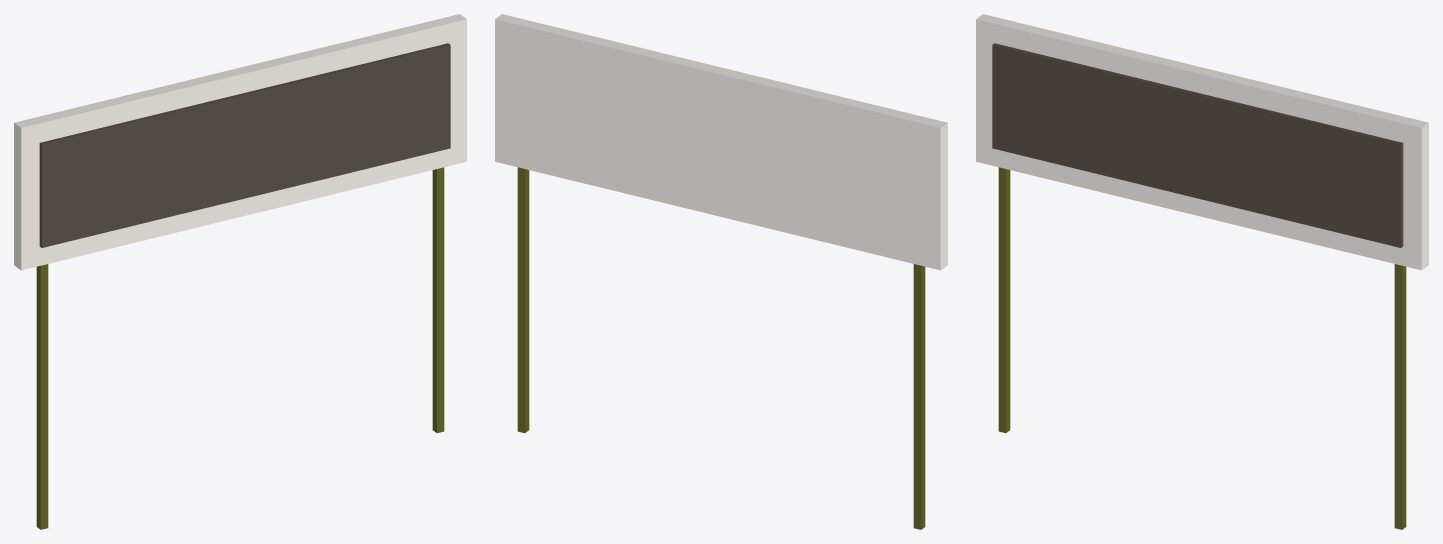
The model's file is SM_KitSueltas_v2_LOD0.fbx.
The picture shows the model from 3 angles, left to right: view 1: azimuth 30°, elevation 25°; view 2: azimuth 150°, elevation 25°; view 3: azimuth 330°, elevation 25°; orthographic projection.
Visible parts, largest first — view 1: SM_bloques.kit_sueltas_v2_LOD0; view 2: SM_bloques.kit_sueltas_v2_LOD0; view 3: SM_bloques.kit_sueltas_v2_LOD0.
Part boxes in pixels (x1=…): SM_bloques.kit_sueltas_v2_LOD0: x1=14, y1=14, x2=466, y2=529; SM_bloques.kit_sueltas_v2_LOD0: x1=495, y1=14, x2=947, y2=529; SM_bloques.kit_sueltas_v2_LOD0: x1=976, y1=14, x2=1428, y2=529.
Size of the model in its own units: 3.6 by 3.15 by 0.13.
